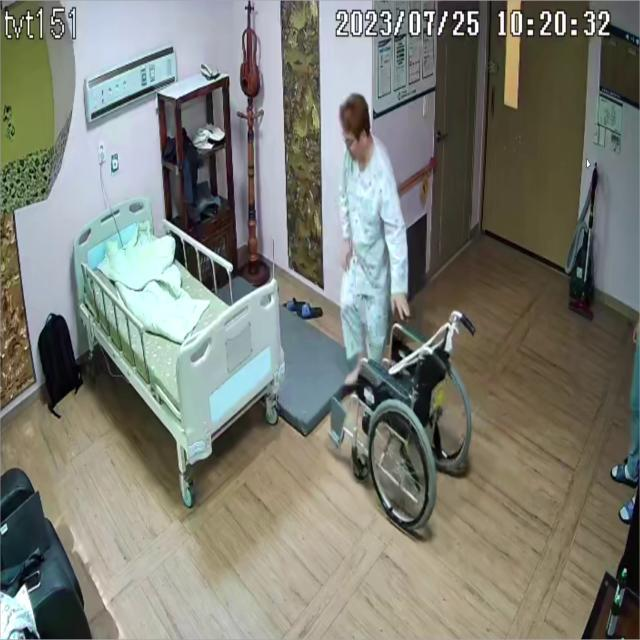bed: (75, 202, 281, 468)
patient: (336, 92, 410, 384)
